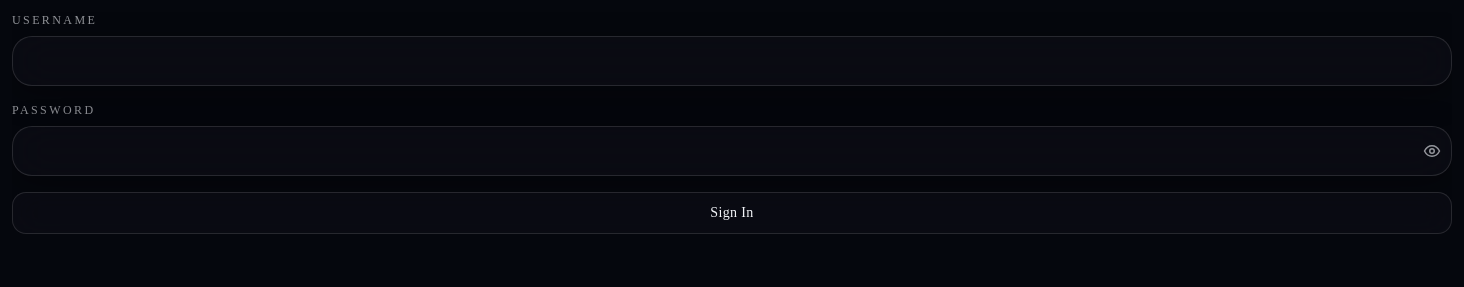
Test: PasswordForm › shows a network-error message when the request itself fails
The image size is (1464, 287).
Type "tarun" into the field labelled "Username" at x=732, y=61, box [12,36,1452,86]
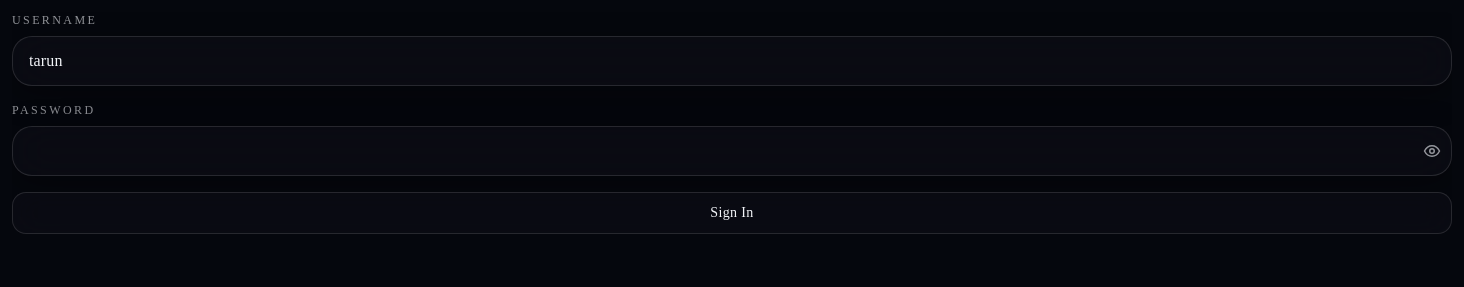
Type "anything" into the field labelled "Password" at x=732, y=151, box [12,126,1452,176]
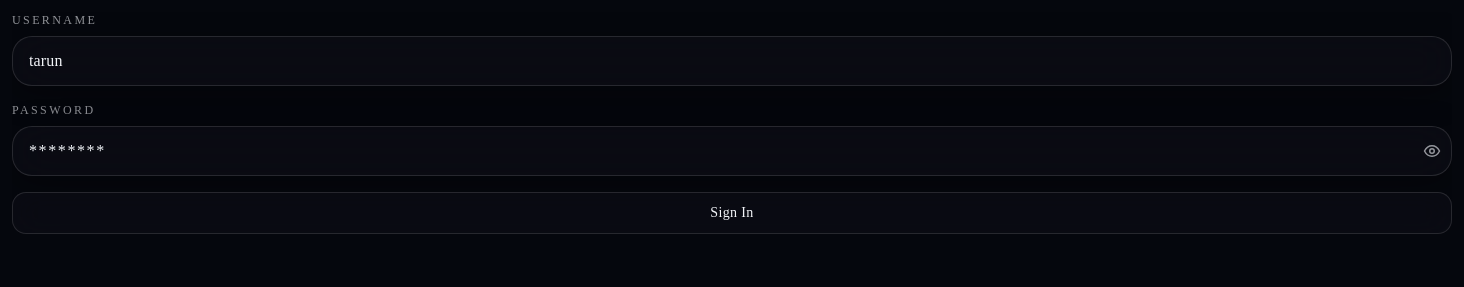
Click the button "Sign In" at x=732, y=213, box [12,192,1452,234]
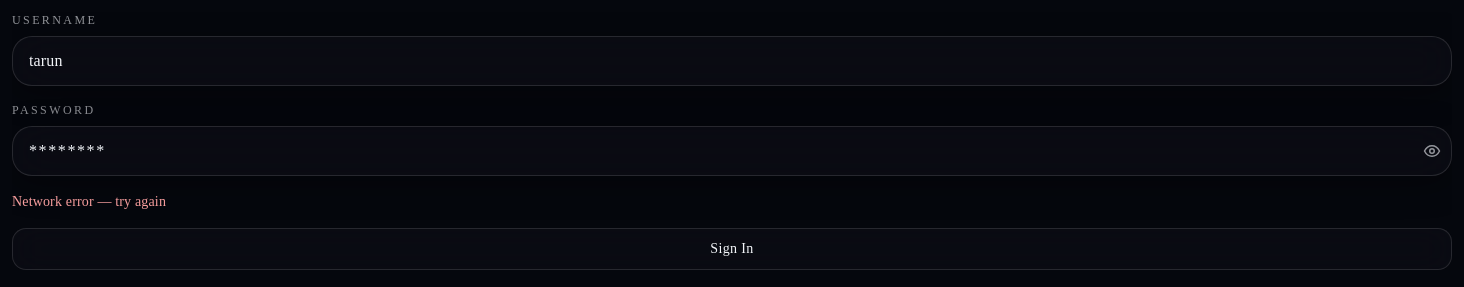
expect the message shows "Network error": met, box [12,194,166,209]
